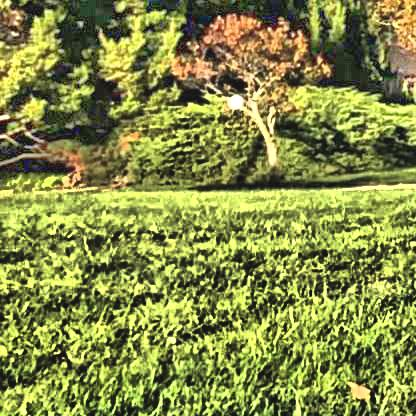golfball: (224, 90, 241, 107)
